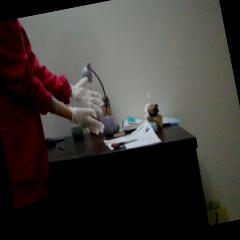gloved: (70, 101, 106, 139), (70, 74, 105, 113)
